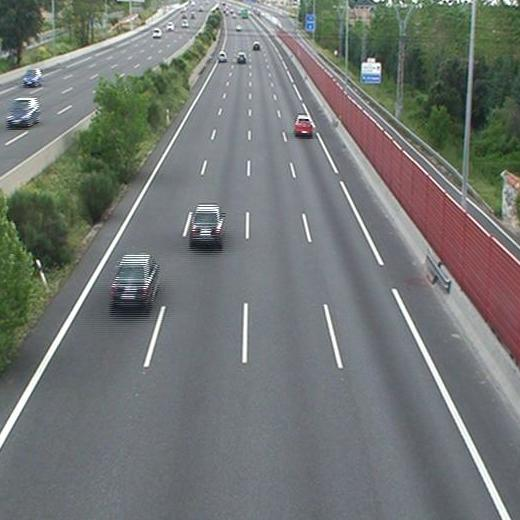car: (111, 256, 156, 307), (191, 205, 223, 242), (294, 116, 313, 135), (218, 52, 228, 62), (237, 53, 245, 62), (252, 42, 260, 49)
